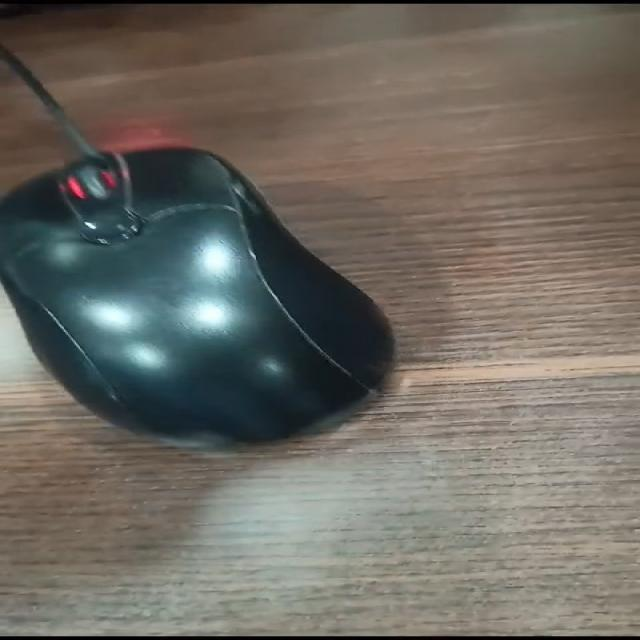mouse: (6, 109, 439, 488)
